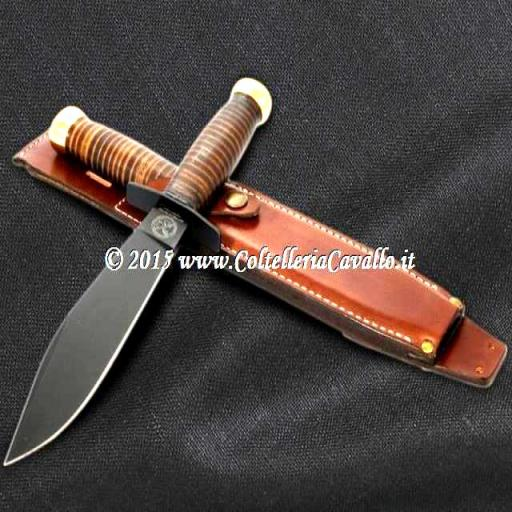knife: (0, 192, 192, 469)
